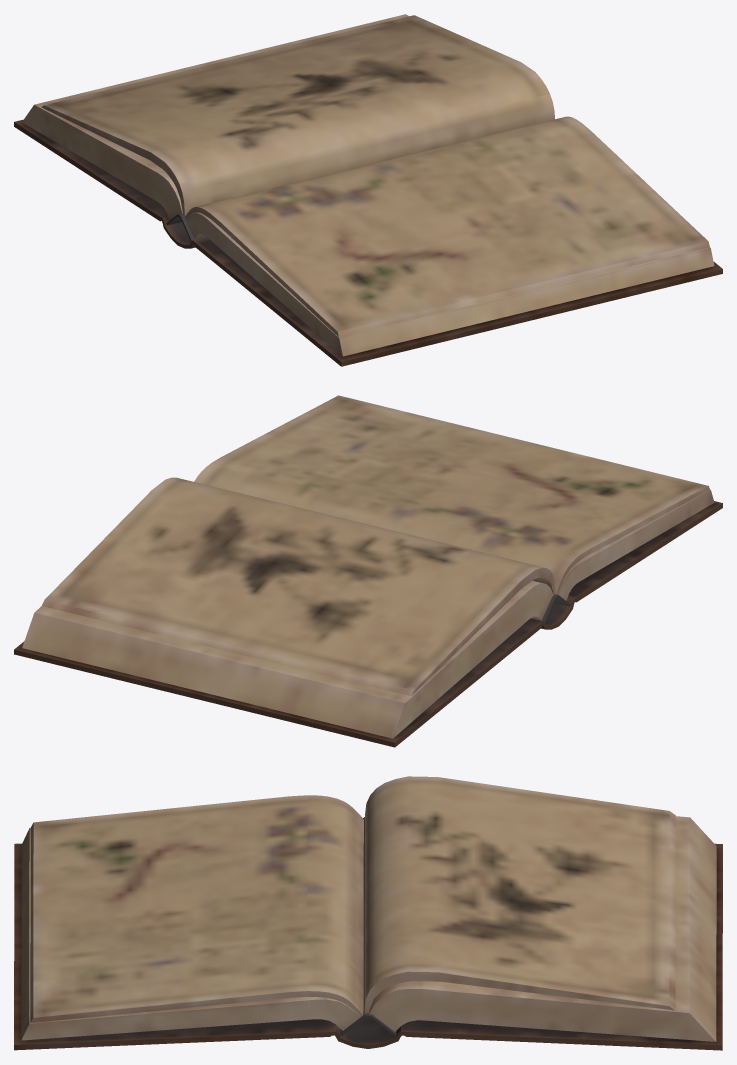
The model's file is book-open.glb.
3 views of the same model, one above another, from view 1: azimuth 30°, elevation 25°; view 2: azimuth 150°, elevation 25°; view 3: azimuth 270°, elevation 25° (orthographic). The views are drawn at different scales.
Visible parts, largest first — view 1: book-open; view 2: book-open; view 3: book-open.
Boxes of the visible parts, left/top/right/bottom form: book-open: left=14, top=14, right=722, bottom=366; book-open: left=14, top=395, right=722, bottom=747; book-open: left=14, top=776, right=722, bottom=1050.
Bounding box in the file's own units: 0.2397 × 0.0419 × 0.3564.
Materials: 1 (1 with a texture image).
